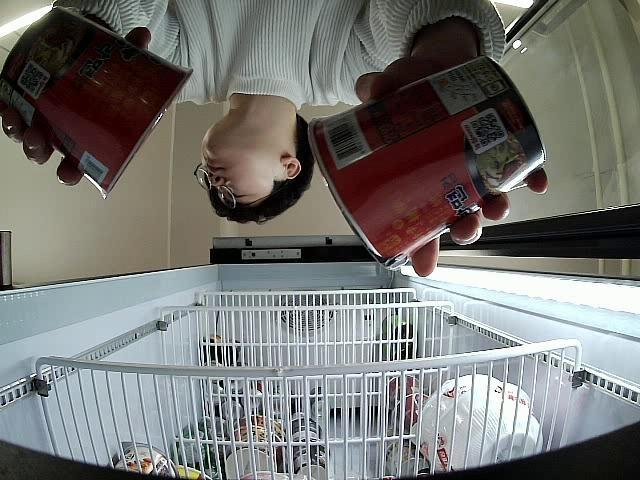02_shinRamen_S: (310, 60, 550, 270), (2, 9, 192, 198)
